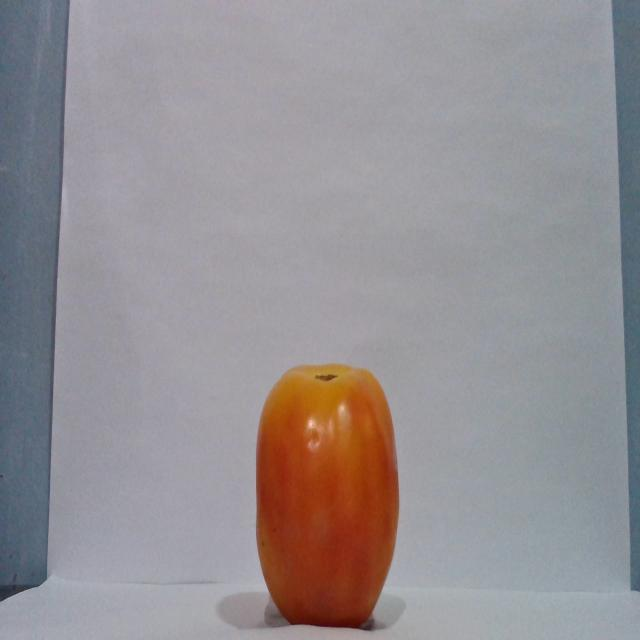Red: (253, 361, 400, 628)
